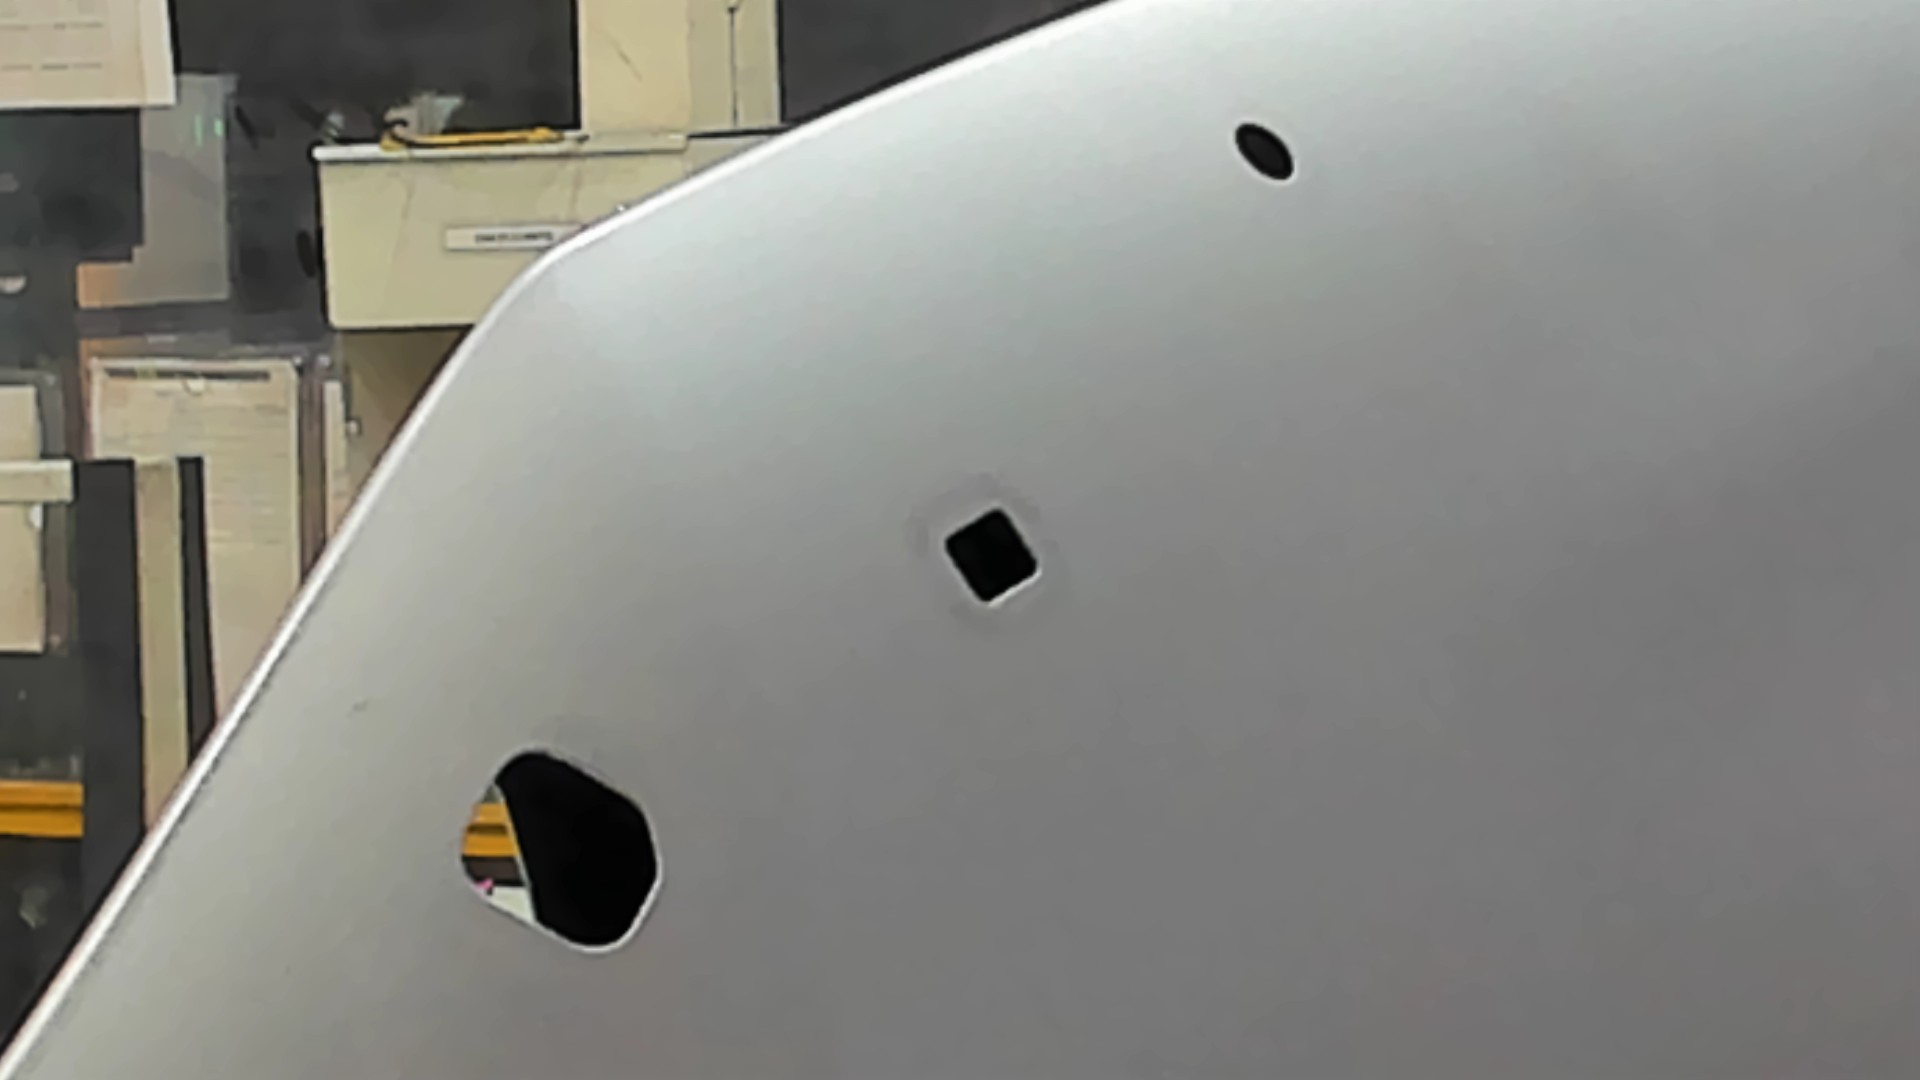Agujero: (942, 506, 1040, 607), (1232, 119, 1296, 182)
Agujerote: (459, 749, 667, 956)
